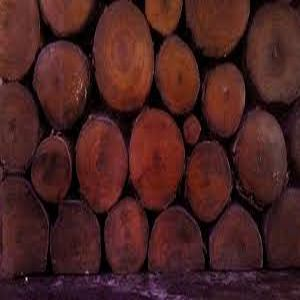log: (89, 1, 153, 117), (129, 107, 188, 211), (230, 107, 289, 208), (74, 114, 130, 216), (244, 4, 300, 106), (33, 41, 91, 130), (1, 172, 50, 276), (147, 206, 206, 277), (184, 138, 232, 224), (101, 194, 150, 275), (51, 199, 102, 276), (196, 61, 246, 139), (205, 204, 263, 271), (152, 34, 202, 110), (1, 80, 40, 176), (186, 2, 250, 60), (262, 186, 300, 272), (1, 1, 41, 81), (30, 134, 72, 201), (143, 1, 185, 28), (182, 112, 204, 144)
